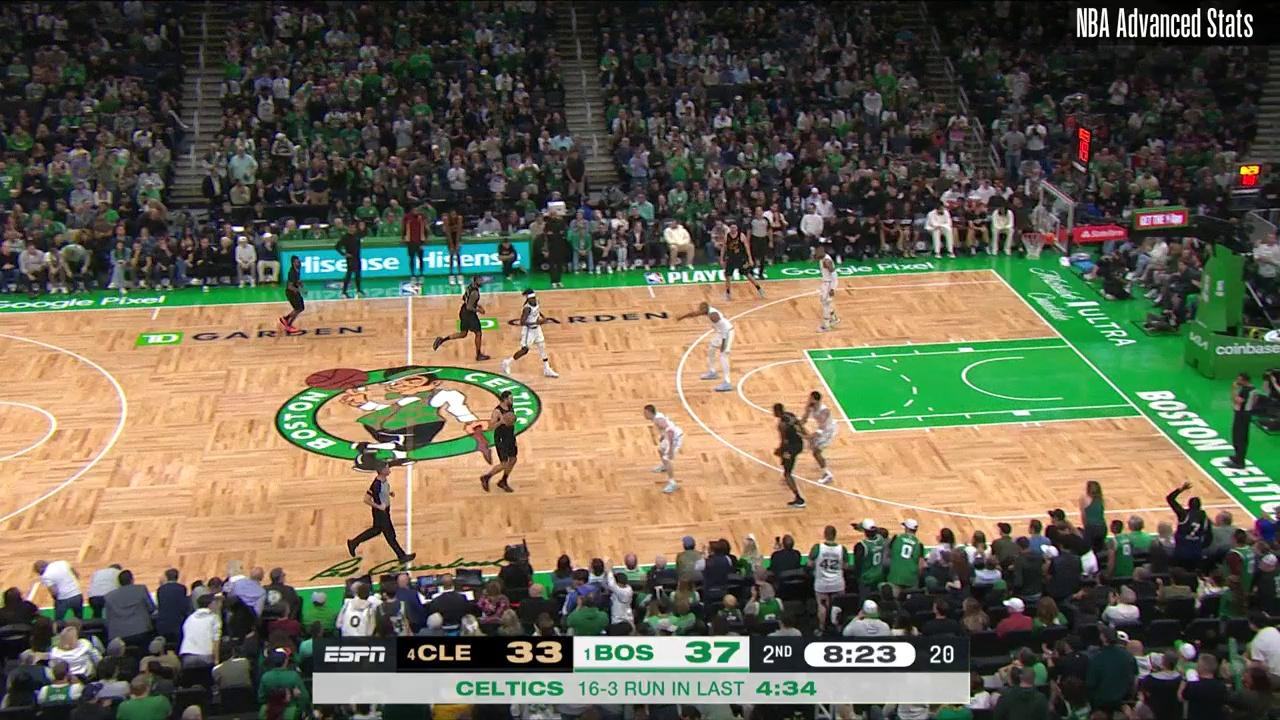3_dx: (1235, 499, 1246, 510)
3_sx: (999, 278, 1009, 286)
b_sx: (987, 266, 997, 274)
free_adx: (850, 427, 858, 435)
free_asx: (800, 346, 809, 355)
free_bdx: (1139, 411, 1150, 421)
free_bsx: (1056, 333, 1067, 342)
half_sx: (405, 293, 415, 302)
mid_dx: (746, 530, 755, 537)
mid_sx: (650, 294, 658, 301)
referee: (349, 462, 417, 564), (1225, 374, 1259, 470), (749, 206, 771, 279)
team: (679, 304, 737, 394), (502, 289, 560, 378), (639, 403, 688, 493), (802, 390, 839, 487), (809, 249, 838, 334)
team1: (433, 273, 495, 363), (766, 402, 812, 509), (476, 388, 523, 490), (720, 221, 765, 301), (279, 256, 309, 335)
timer: (818, 634, 907, 672)
